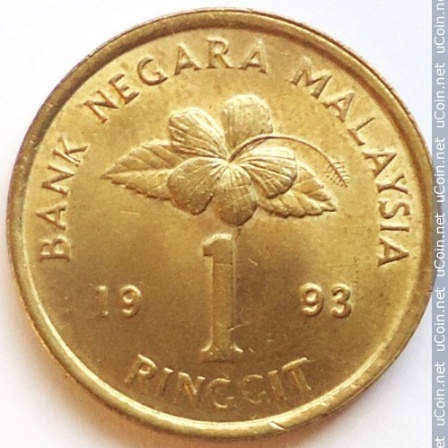1r: (4, 7, 445, 442)
